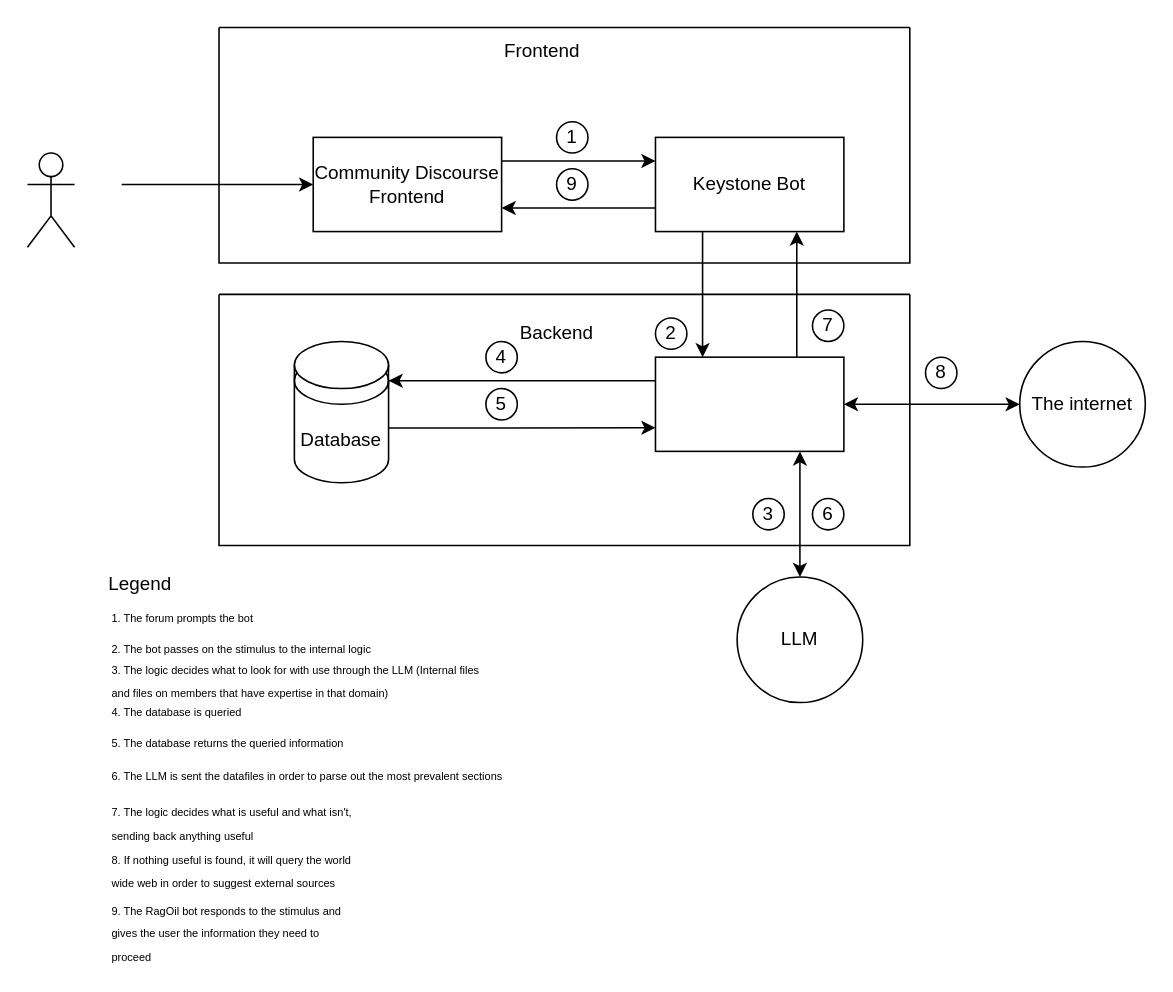
This 1173x992 diagram has some shape labels left out. The box of each missing label's shape, as (x1, y1, x2, y2) in pixels:
Logic: (654, 356, 844, 451)
User: (26, 152, 75, 247)
